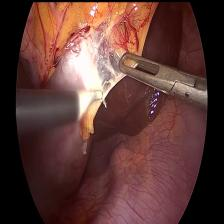Grasper: (116, 50, 184, 98)
Hook: (74, 80, 106, 122)
